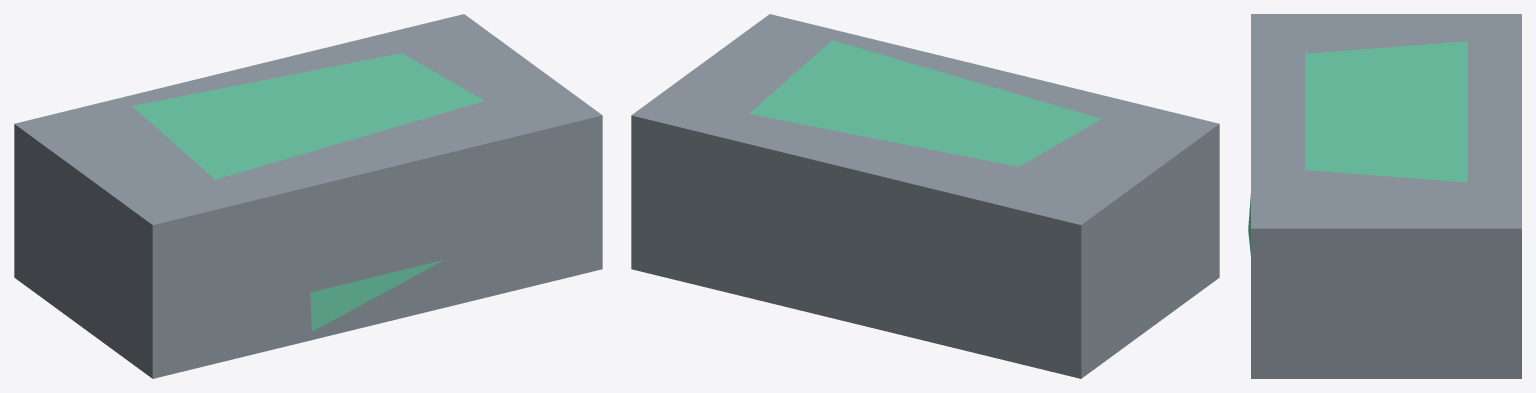
Rendered from CO_MonsoonArtillery_LOD1.glb.
3 views of the same model, side by side, from view 1: azimuth 30°, elevation 25°; view 2: azimuth 150°, elevation 25°; view 3: azimuth 270°, elevation 25° (orthographic). The views are drawn at different scales.
Parts seen in each view (by area): view 1: EntranceGate; view 2: EntranceGate; view 3: EntranceGate.
Part boxes in pixels (x1=…): EntranceGate: x1=14, y1=14, x2=602, y2=378; EntranceGate: x1=631, y1=14, x2=1219, y2=378; EntranceGate: x1=1248, y1=14, x2=1521, y2=378.
Size of the model in its own units: 600 by 216 by 323.
